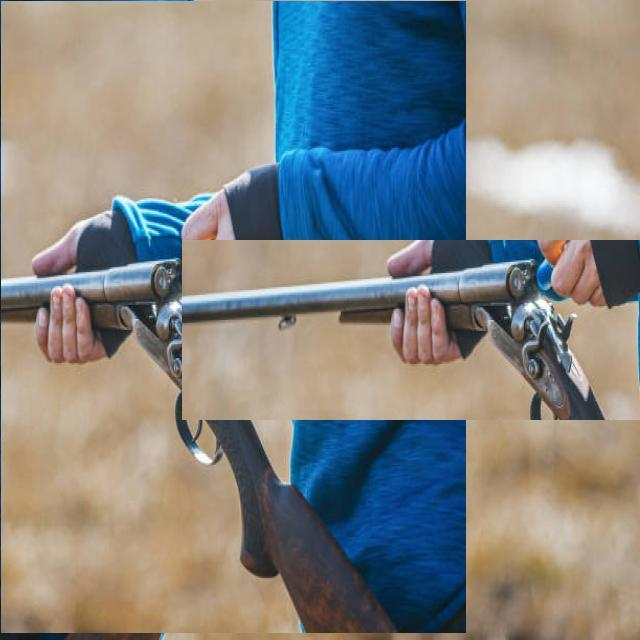weapon: (189, 249, 627, 417)
